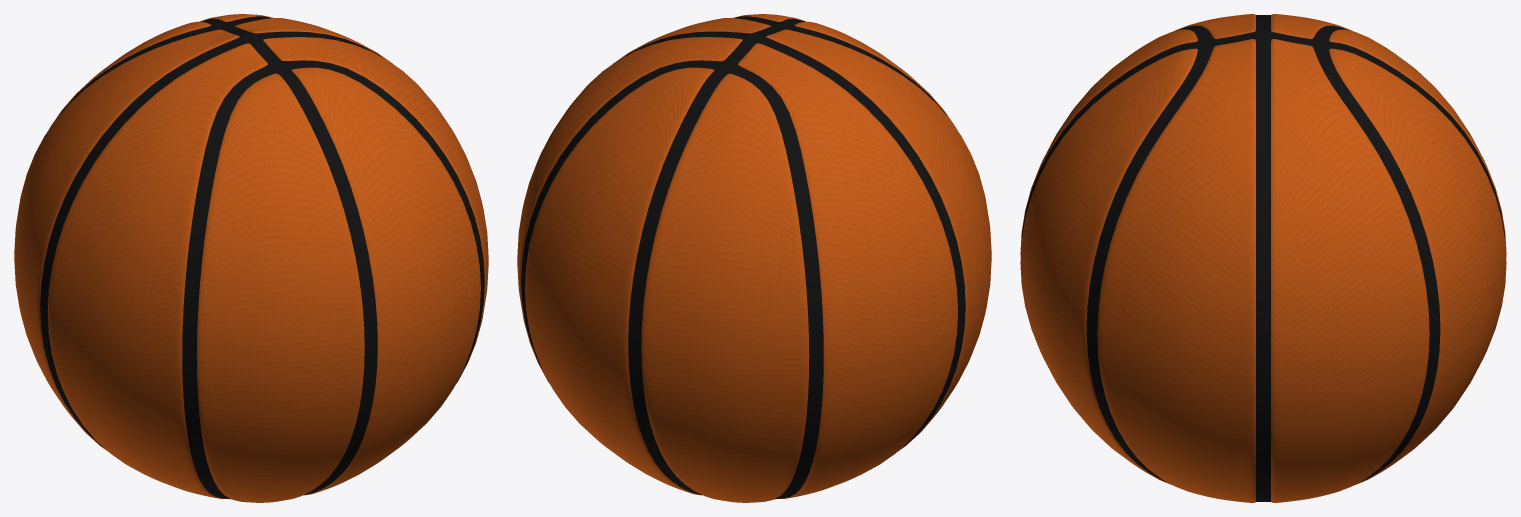
3 views of the same model, side by side, from view 1: azimuth 30°, elevation 25°; view 2: azimuth 150°, elevation 25°; view 3: azimuth 270°, elevation 25° (orthographic).
Parts seen in each view (by area): view 1: Sphere001; view 2: Sphere001; view 3: Sphere001.
Boxes of the visible parts, x1,y1,x2,y2 form: Sphere001: (14, 14, 488, 502); Sphere001: (517, 14, 991, 502); Sphere001: (1020, 14, 1506, 502).
Bounding box in the file's own units: 96.48 × 97.84 × 96.48.
1 material, 1 textured.
